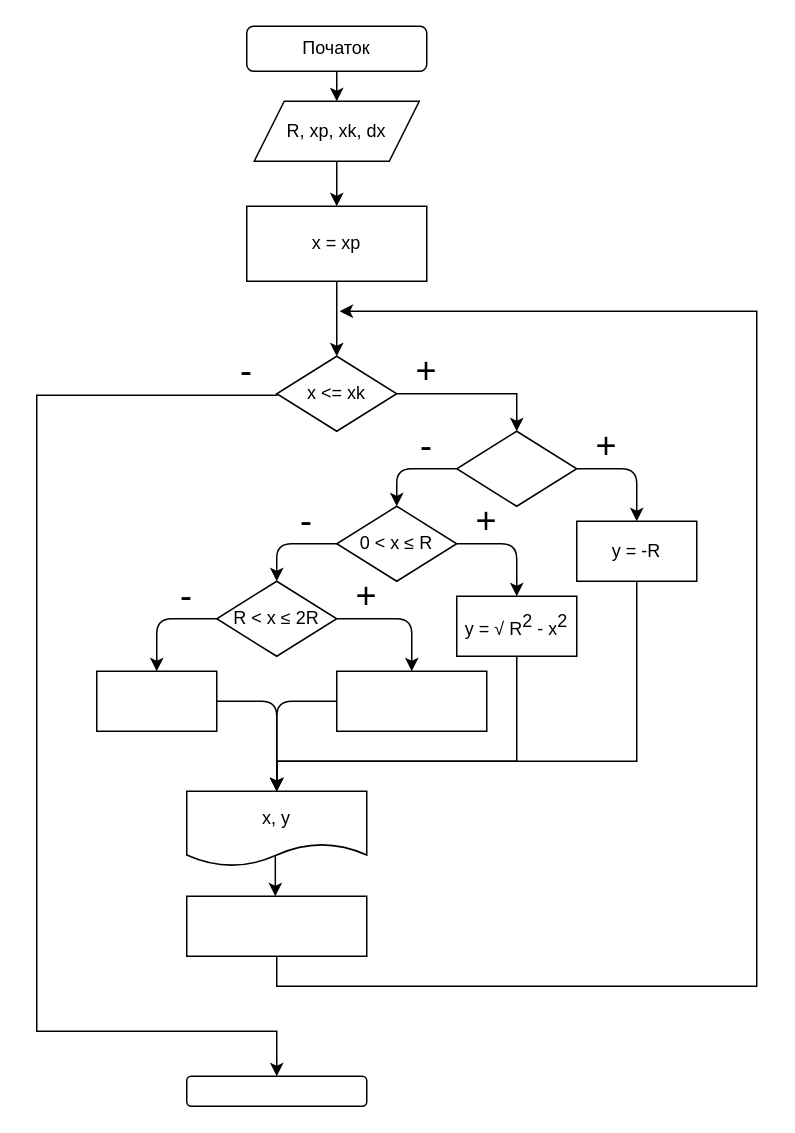
This 795x1133 diagram has some shape labels left out. The centre of each missing label's shape, as x and y in pixels:
x += dx: [276,925]
x <= 0: [516,468]
y = R: [156,700]
y = √ R 2 - x 2 + 4R 2: [411,700]
Кінець: [276,1090]
